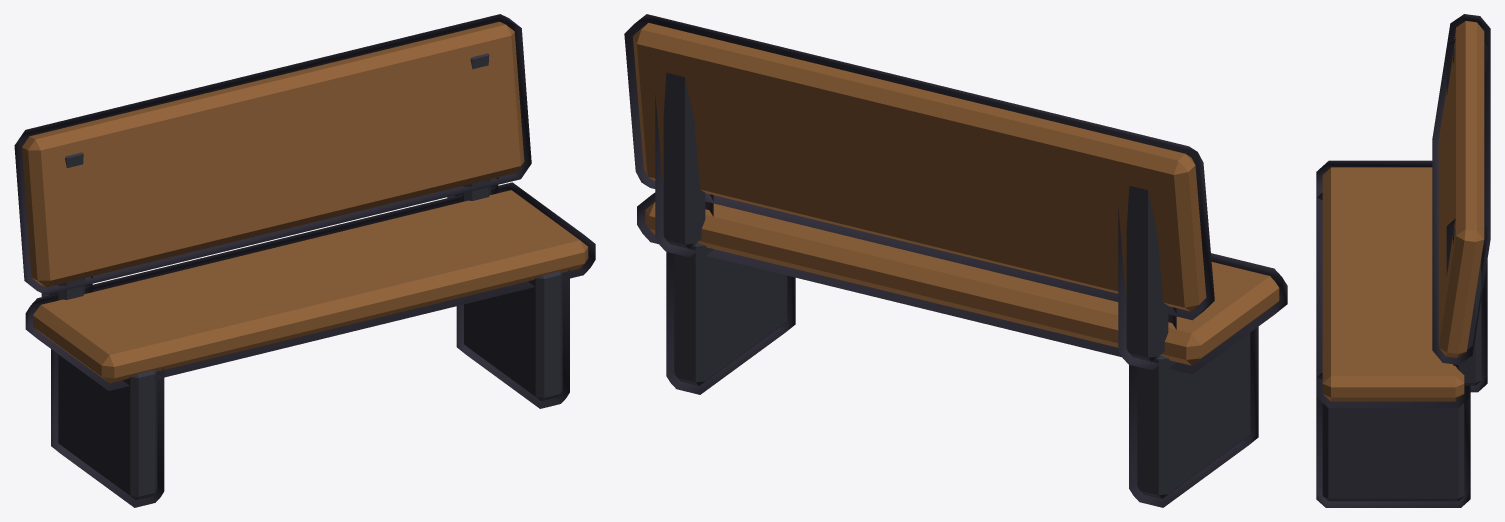
The model's file is bench.glb.
The picture shows the model from 3 angles, left to right: view 1: azimuth 30°, elevation 25°; view 2: azimuth 150°, elevation 25°; view 3: azimuth 270°, elevation 25°; orthographic projection. The views are drawn at different scales.
Visible parts, largest first — view 1: bench; view 2: bench; view 3: bench.
Part boxes in pixels (x1=…): bench: x1=14, y1=14, x2=595, y2=507; bench: x1=624, y1=14, x2=1287, y2=507; bench: x1=1316, y1=14, x2=1490, y2=507.
Size of the model in its own units: 1.84 by 1.15 by 0.615.
